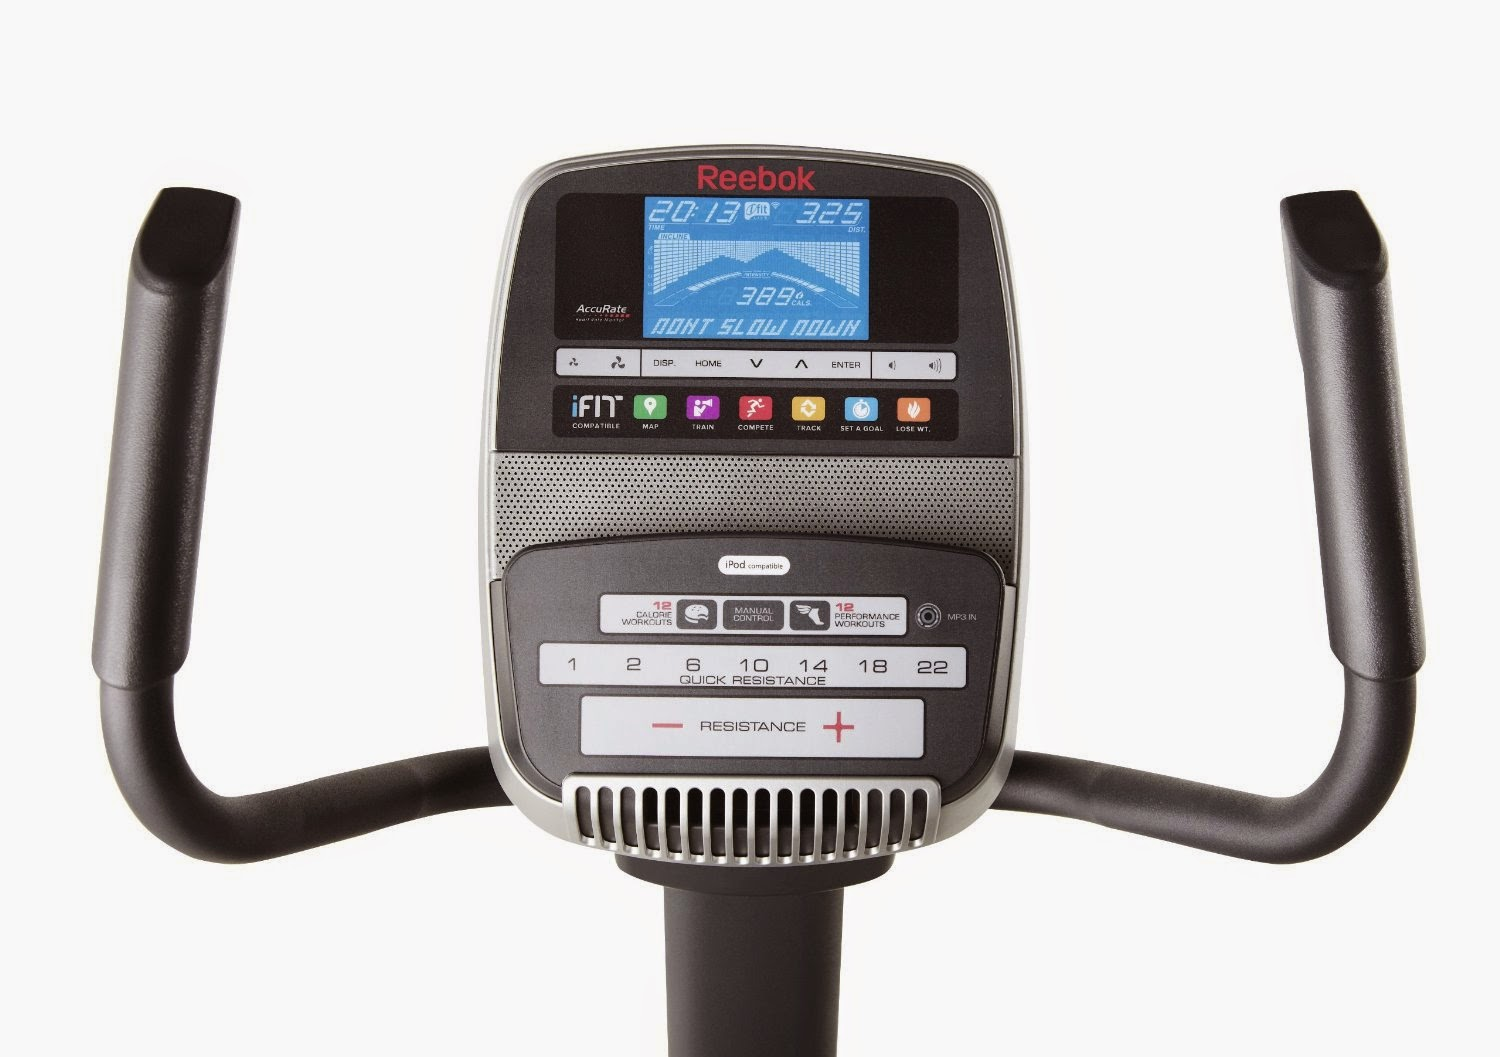gym_bike: (114, 116, 1426, 1057)
